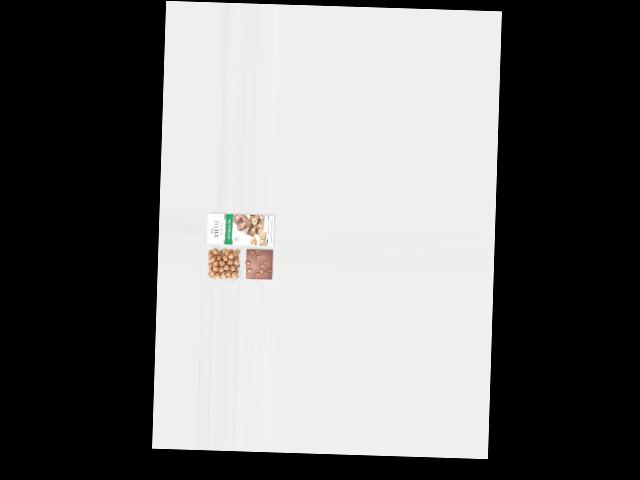chocolate: (244, 247, 274, 283)
